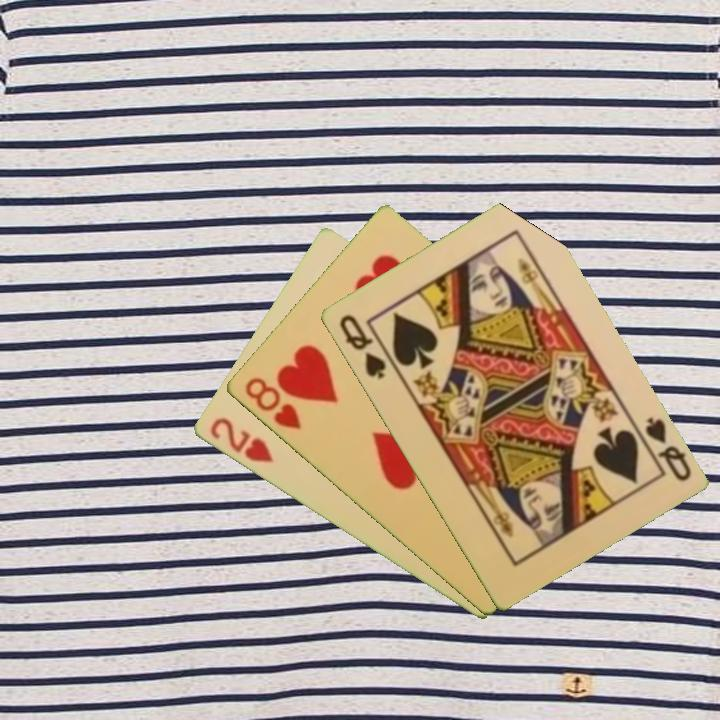2h: (206, 414, 276, 466)
8h: (240, 373, 304, 433)
Qs: (335, 311, 389, 382), (641, 413, 694, 484)
